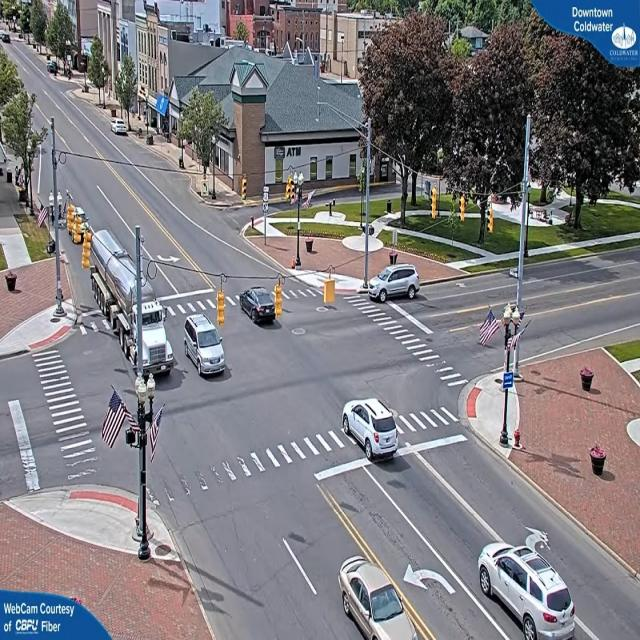car: (476, 538, 582, 640), (337, 559, 423, 640), (342, 400, 401, 464), (182, 314, 228, 376), (371, 267, 422, 302), (240, 285, 281, 324), (112, 119, 130, 136)
truck: (124, 301, 174, 380)
